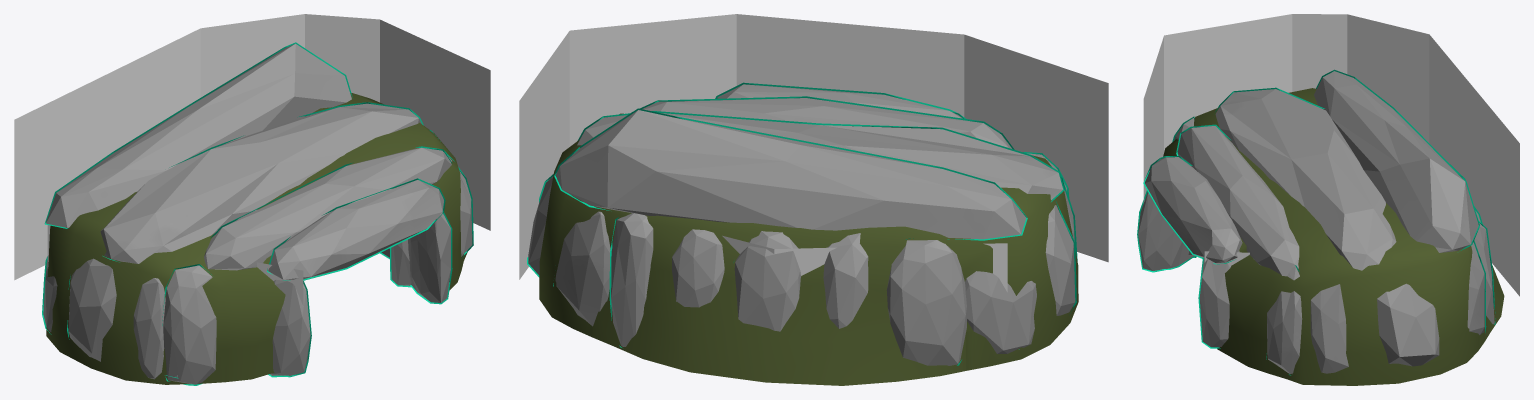
File: Dolmen2.gltf
3 renders of one model, left to right at view 1: azimuth 30°, elevation 25°; view 2: azimuth 150°, elevation 25°; view 3: azimuth 270°, elevation 25°, orthographic. The views are drawn at different scales.
Parts seen in each view (by area): view 1: dolm2, Box.002, Dolm plane, Outline.003; view 2: dolm2, Box.002, Dolm plane, Outline.003; view 3: dolm2, Box.002, Dolm plane, Outline.003.
Part boxes in pixels (x1=…): dolm2: x1=43, y1=43, x2=472, y2=384; Box.002: x1=14, y1=14, x2=490, y2=305; Dolm plane: x1=46, y1=93, x2=467, y2=384; Outline.003: x1=42, y1=42, x2=473, y2=385; dolm2: x1=528, y1=84, x2=1075, y2=365; Box.002: x1=519, y1=14, x2=1108, y2=292; Dolm plane: x1=539, y1=113, x2=1078, y2=385; Outline.003: x1=527, y1=82, x2=1077, y2=365; dolm2: x1=1138, y1=71, x2=1494, y2=373; Box.002: x1=1143, y1=14, x2=1519, y2=296; Dolm plane: x1=1163, y1=88, x2=1504, y2=385; Outline.003: x1=1137, y1=69, x2=1495, y2=375.
Size of the model in its own units: 14.25 by 5.9 by 10.94.
25 materials, 24 textured.
